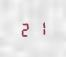one: (33, 19, 46, 36)
two: (19, 20, 32, 37)
